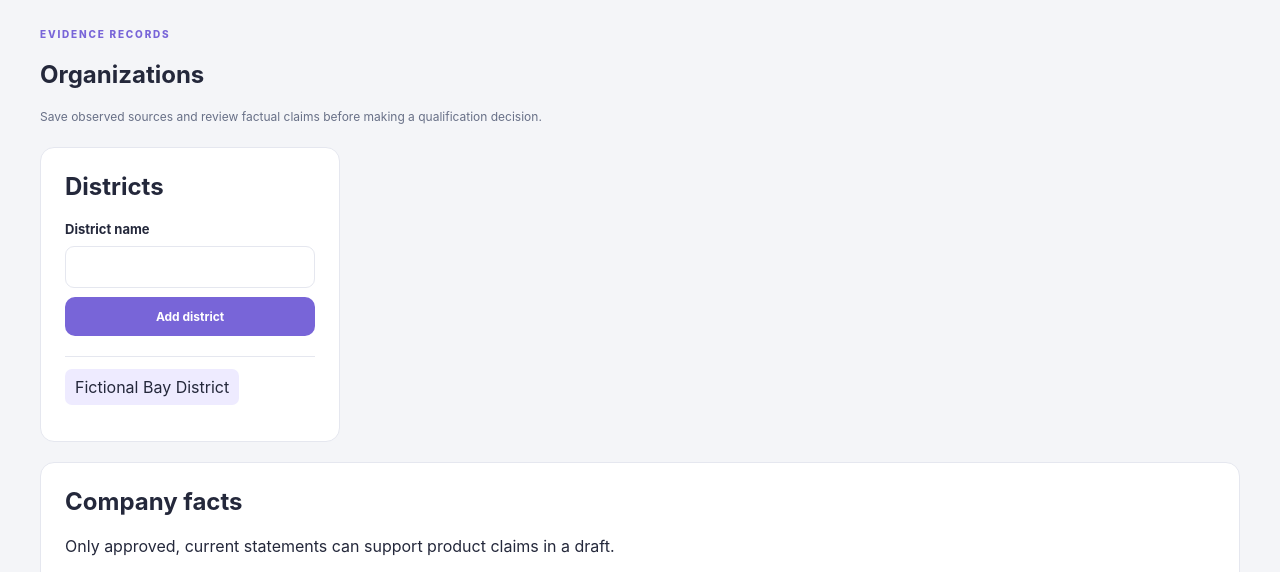
shows a terminal intent failure for operator review
The image size is (1280, 572).
Click the button "Fictional Bay District". click: (152, 387)
box: [65,369,239,405]
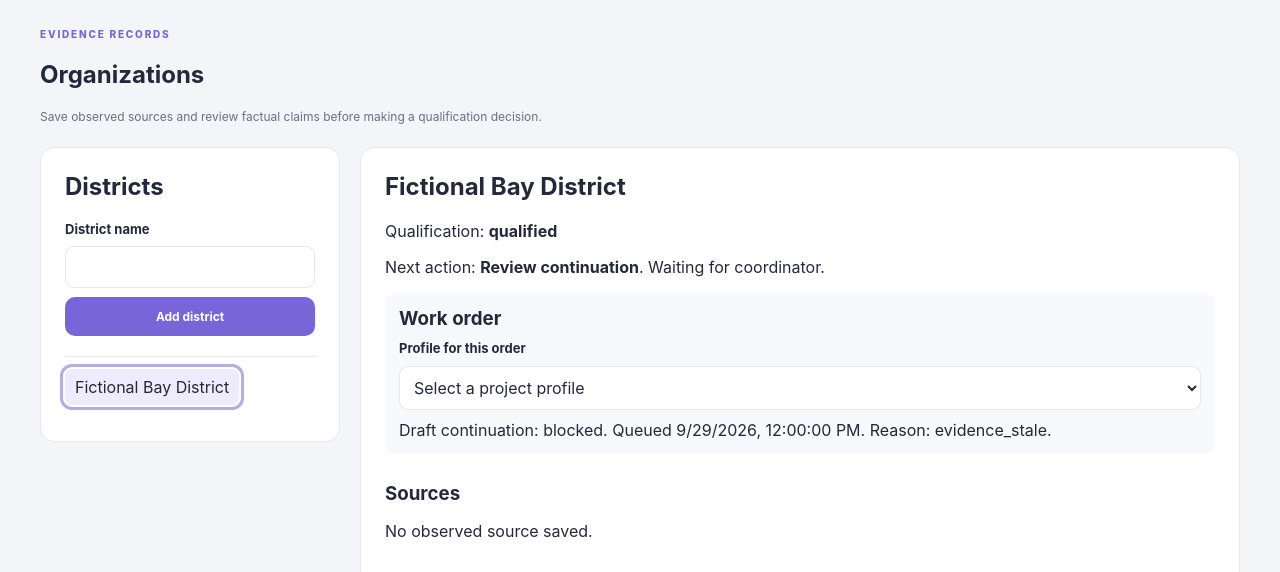
Now the text "Reason: evidence_stale" is shown, box [399,420,1052,440]
